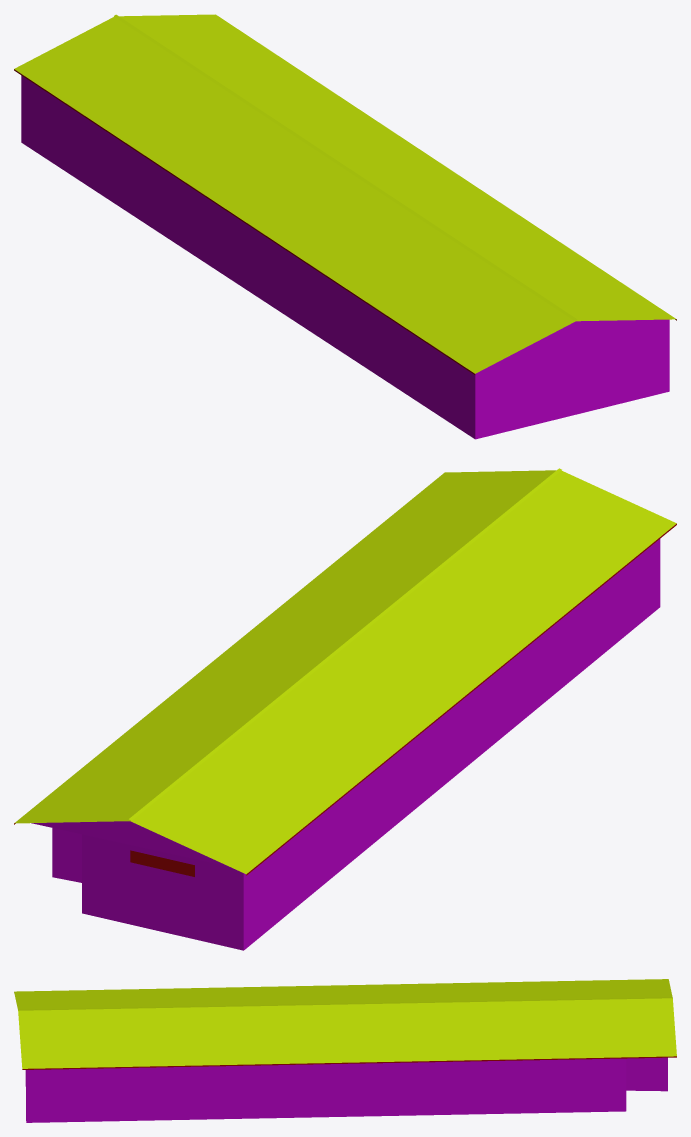
The model's file is scl_104.glb.
3 views of the same model, one above another, from view 1: azimuth 30°, elevation 25°; view 2: azimuth 150°, elevation 25°; view 3: azimuth 270°, elevation 25° (orthographic). The views are drawn at different scales.
Visible parts, largest first — view 1: scl_104; view 2: scl_104; view 3: scl_104.
Boxes of the visible parts, <box> form: scl_104: <box>14,14,676,439</box>; scl_104: <box>14,468,676,950</box>; scl_104: <box>14,979,676,1122</box>.
Bounding box in the file's own units: 20.75 × 8.22 × 64.68.
